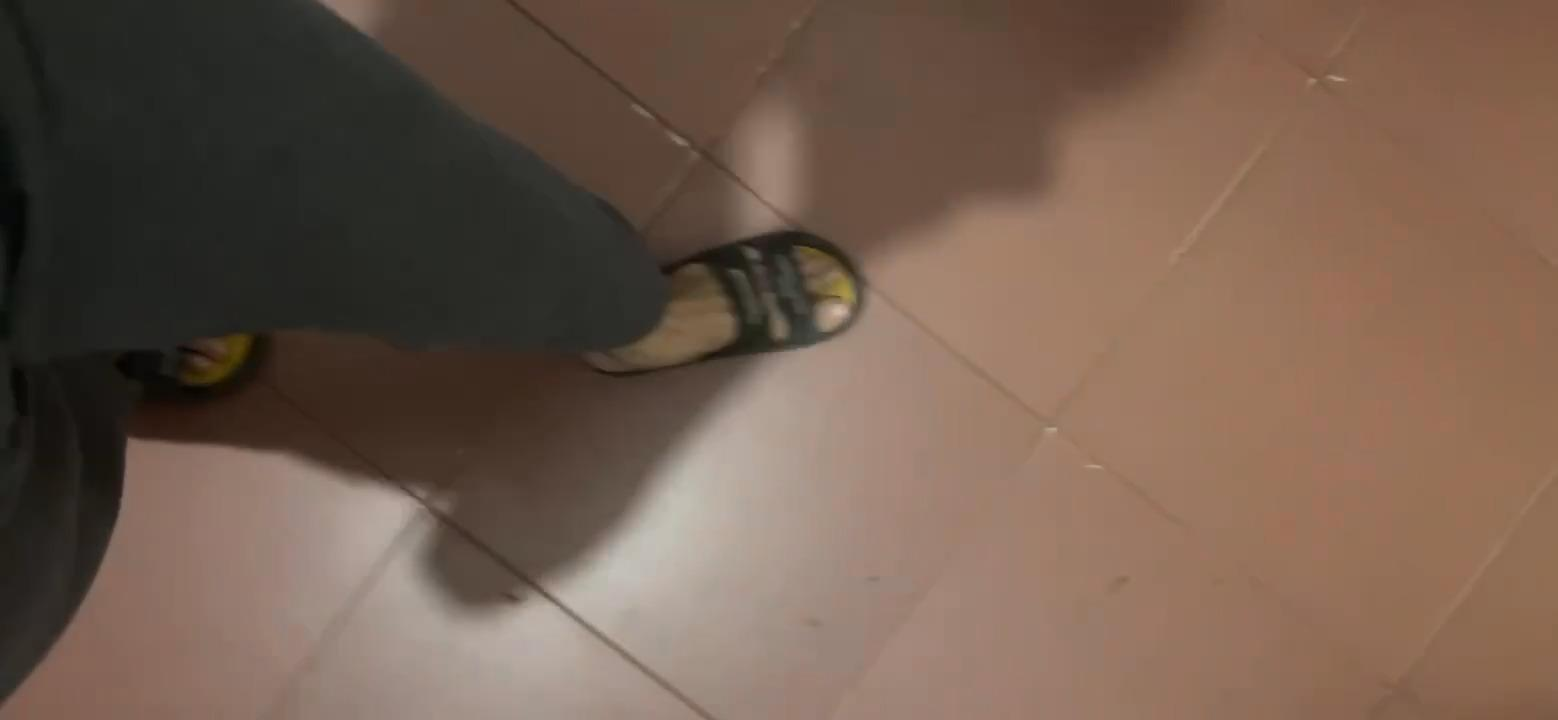no-boot: (563, 219, 880, 370)
